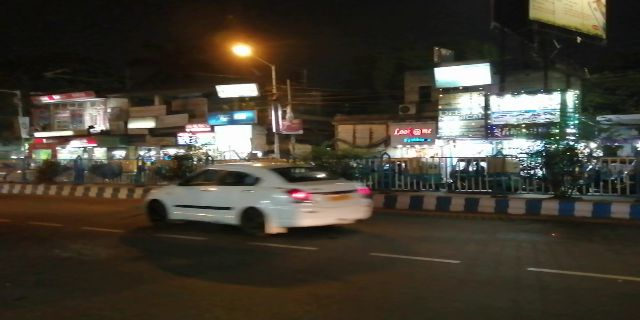Car: (143, 156, 376, 244)
